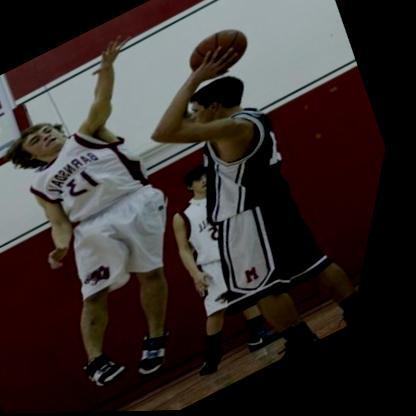basketball: (181, 21, 262, 88)
